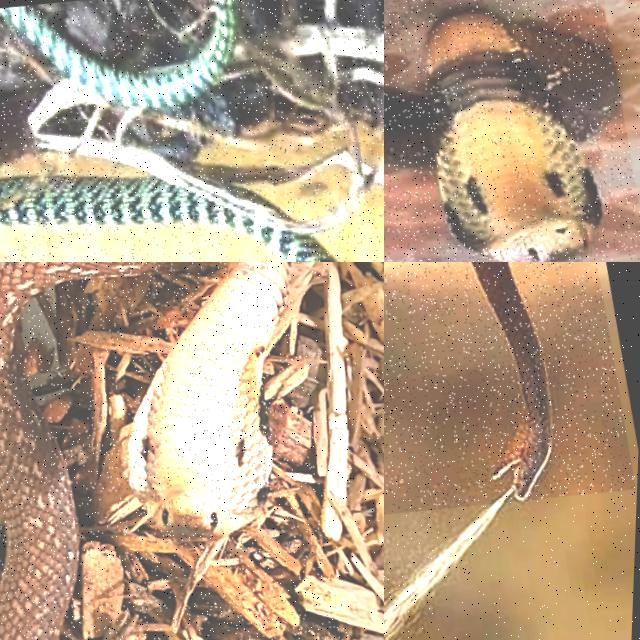Chrysopelea ornata: (0, 176, 336, 261)
Naja kaouthia: (0, 262, 288, 639), (384, 12, 620, 261)
Naja siamensis: (472, 262, 552, 498)
